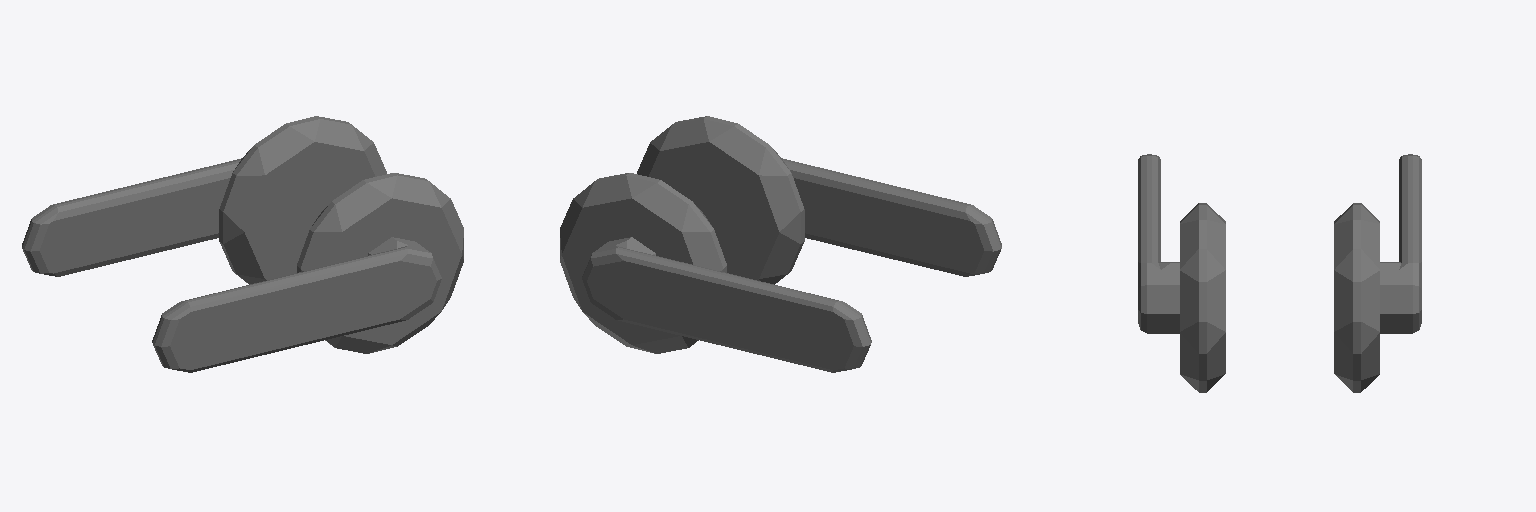
The model's file is doorKnob1.obj.
The picture shows the model from 3 angles: view 1: azimuth 30°, elevation 25°; view 2: azimuth 150°, elevation 25°; view 3: azimuth 270°, elevation 25°; orthographic projection.
Visible parts, largest first — view 1: door1.001_Material.006; view 2: door1.001_Material.006; view 3: door1.001_Material.006.
Boxes of the visible parts, x1,y1,x2,y2 form: door1.001_Material.006: [22, 116, 463, 372]; door1.001_Material.006: [560, 116, 1001, 372]; door1.001_Material.006: [1138, 154, 1421, 392].
Bounding box in the file's own units: 0.2644 × 0.1291 × 0.194.